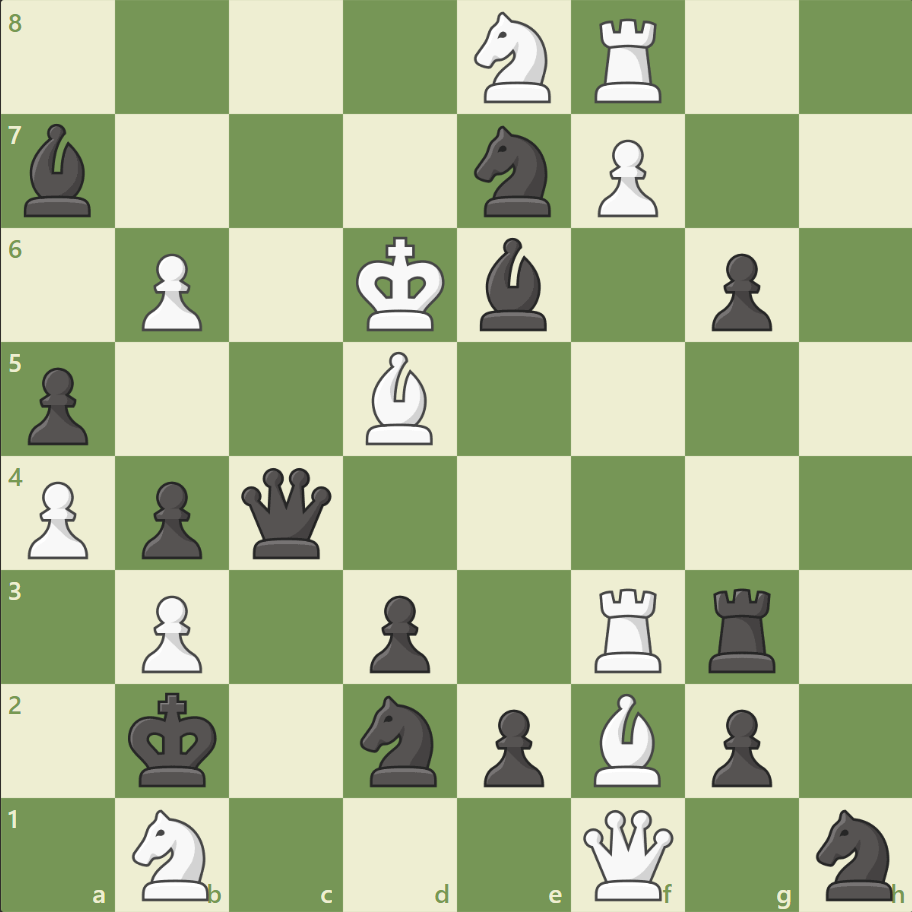B: (585, 687, 669, 790), (358, 347, 442, 449)
K: (351, 231, 451, 339)
N: (124, 802, 222, 904), (465, 7, 562, 110)
P: (133, 246, 208, 337), (20, 473, 95, 564), (133, 586, 208, 677), (588, 132, 662, 223)
Q: (578, 804, 677, 903)
R: (587, 12, 670, 109), (587, 579, 670, 676)
b: (471, 233, 555, 336), (17, 120, 101, 222)
k: (124, 685, 224, 793)
n: (351, 688, 449, 791), (465, 121, 562, 223), (806, 802, 903, 904)
p: (701, 246, 776, 337), (20, 359, 95, 450), (133, 473, 208, 564), (474, 700, 549, 791), (701, 700, 776, 791), (361, 586, 435, 677)
q: (237, 463, 336, 562)
r: (700, 579, 783, 676)
